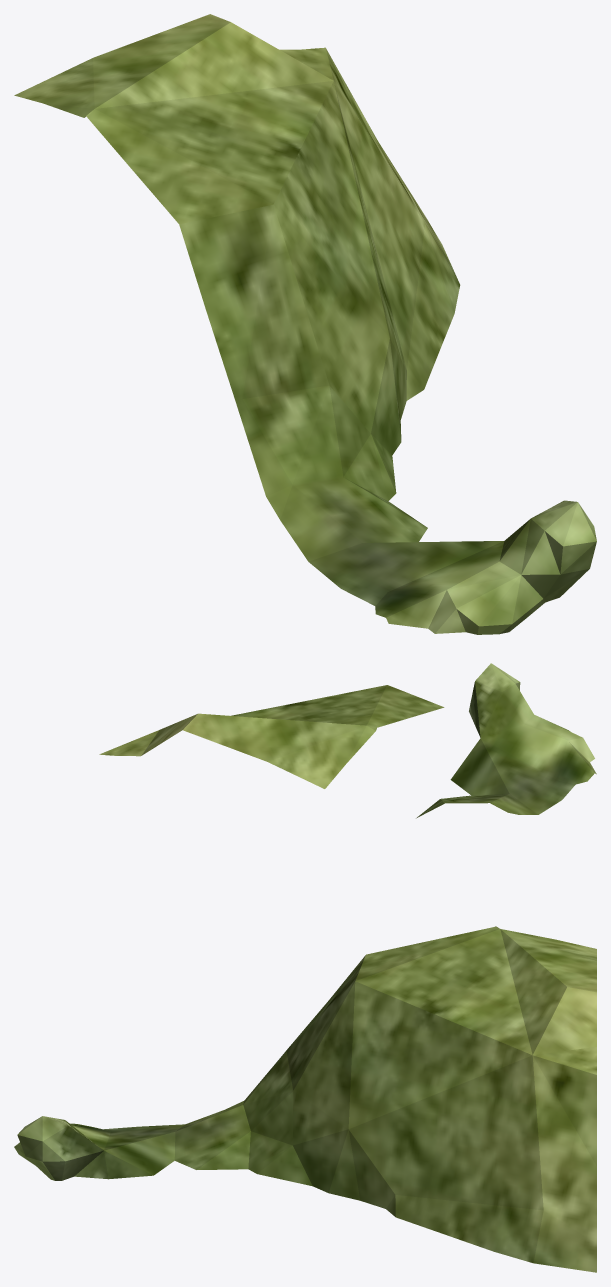
3 renders of one model, top to bottom at view 1: azimuth 30°, elevation 25°; view 2: azimuth 150°, elevation 25°; view 3: azimuth 270°, elevation 25°, orthographic. The views are drawn at different scales.
Size of the model in its own units: 1.17 by 0.7722 by 1.98.
1 material, 1 textured.
